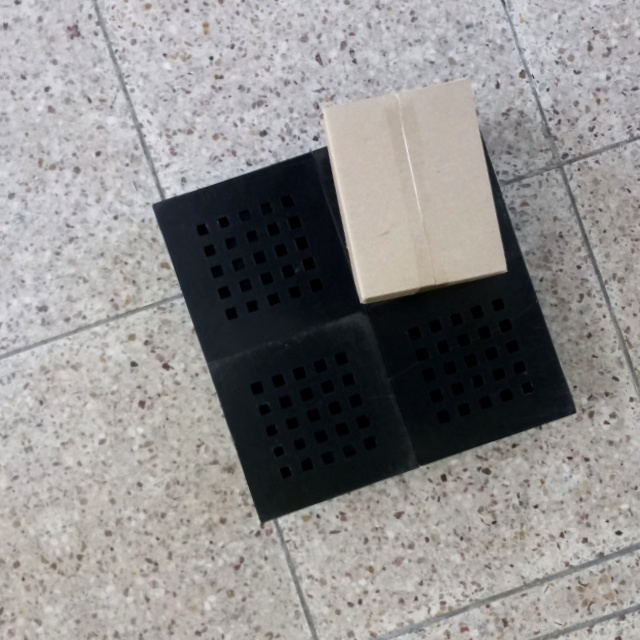box: (316, 73, 513, 308)
pallet: (144, 105, 588, 529)
